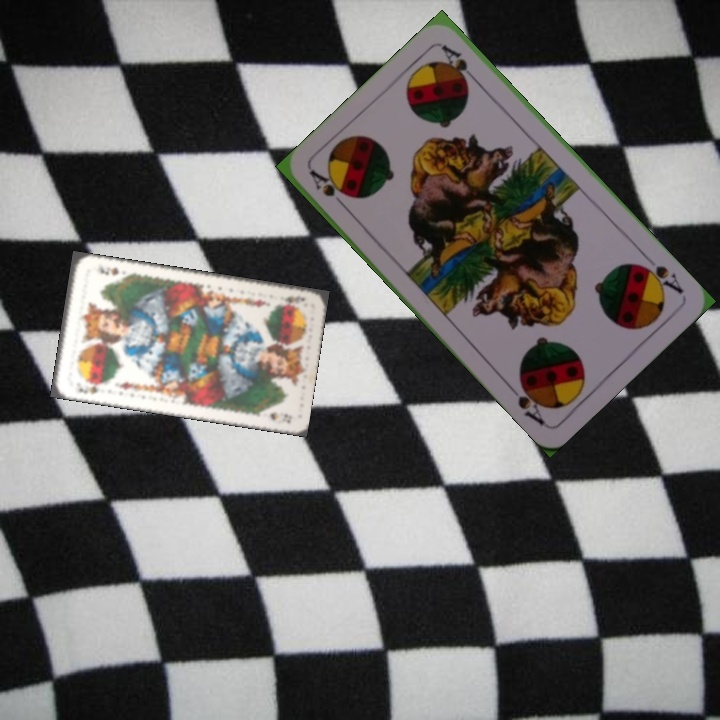SA: (633, 251, 687, 297), (306, 166, 352, 214)
SK: (74, 378, 108, 397), (281, 291, 307, 309)
